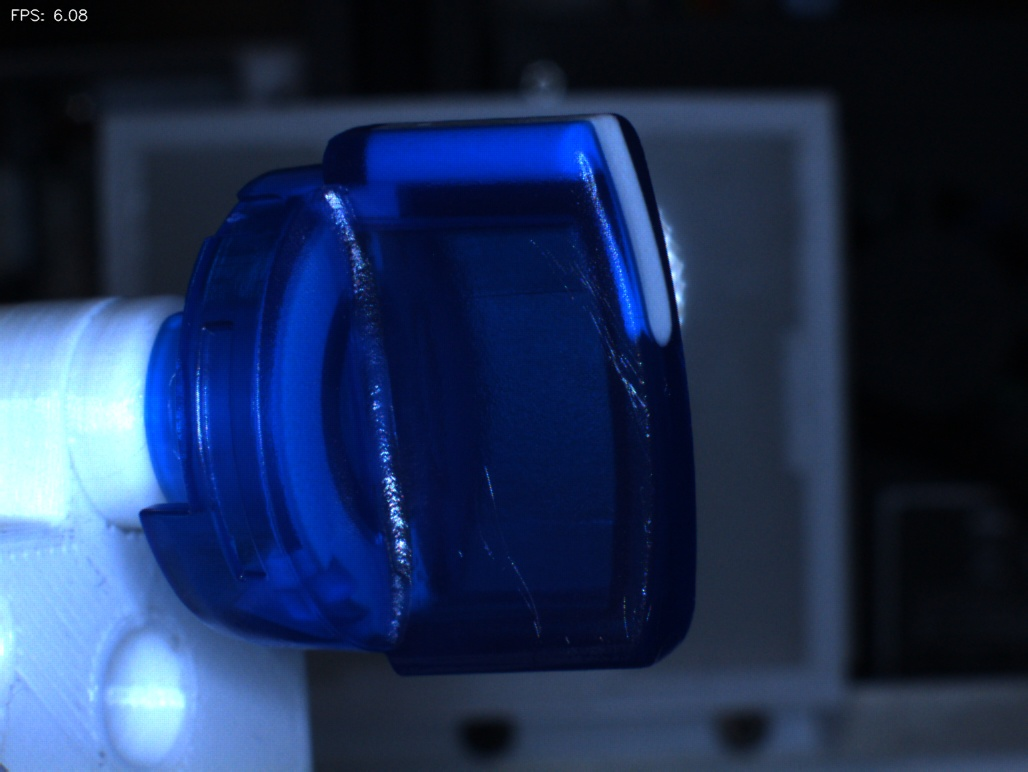Givrage: (518, 193, 658, 428), (455, 456, 549, 653), (588, 561, 669, 658)
